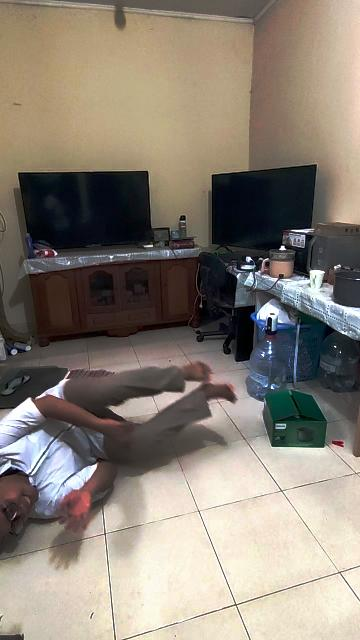jatuh: (0, 354, 238, 564)
